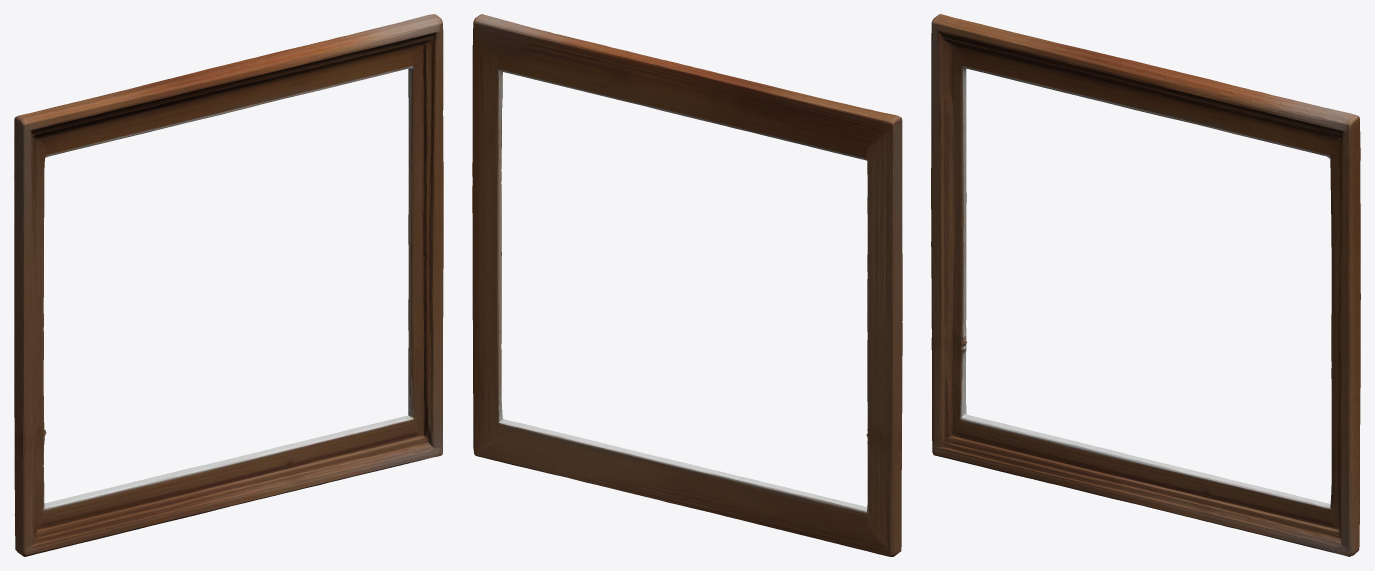
File: ast_cd8aec2bdb05.glb
3 renders of one model, left to right at view 1: azimuth 30°, elevation 25°; view 2: azimuth 150°, elevation 25°; view 3: azimuth 330°, elevation 25°, orthographic.
Visible parts, largest first — view 1: geometry_0; view 2: geometry_0; view 3: geometry_0.
Part boxes in pixels (box(x1,y1,x2,y2)): geometry_0: box(14, 14, 443, 556); geometry_0: box(472, 14, 902, 556); geometry_0: box(931, 14, 1360, 556).
Size of the model in its own units: 1 by 0.9931 by 0.0431.
1 material, 1 textured.
